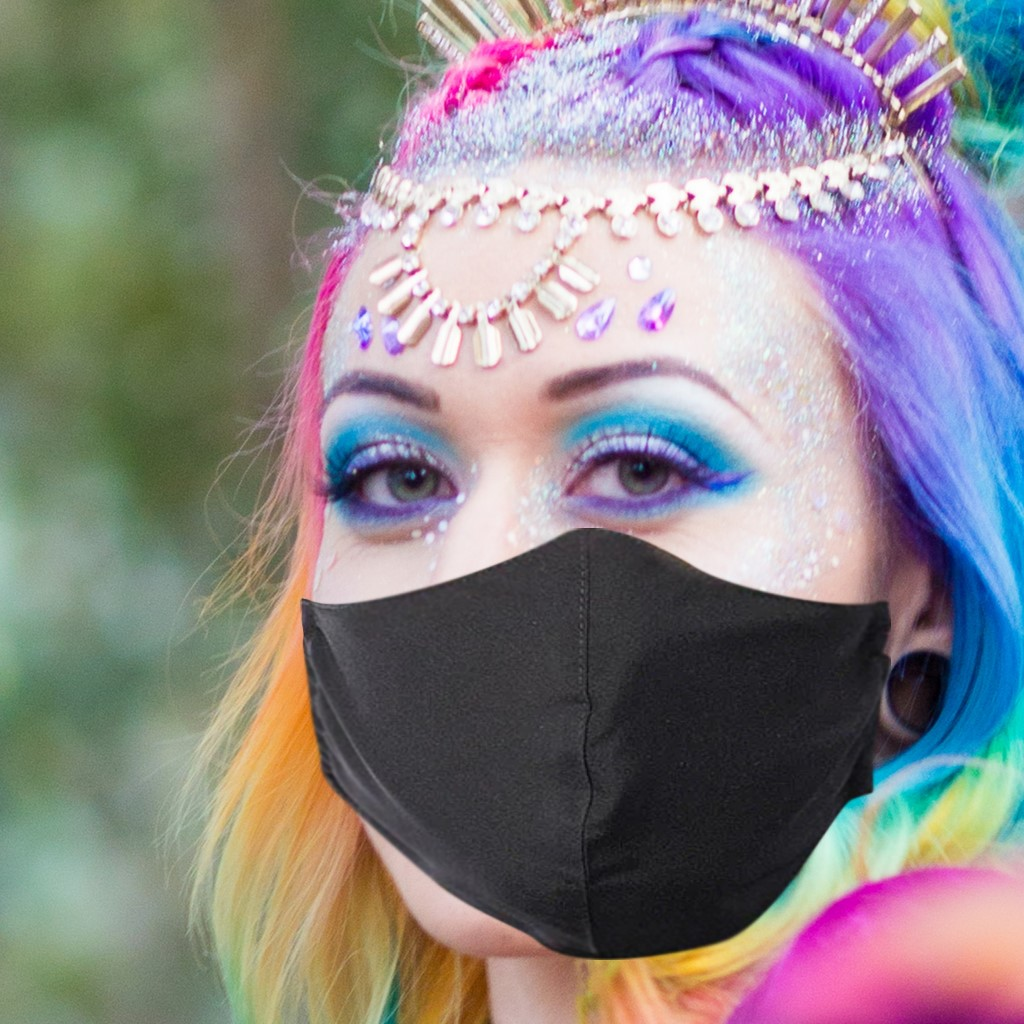con_mascara: (305, 58, 964, 946)
